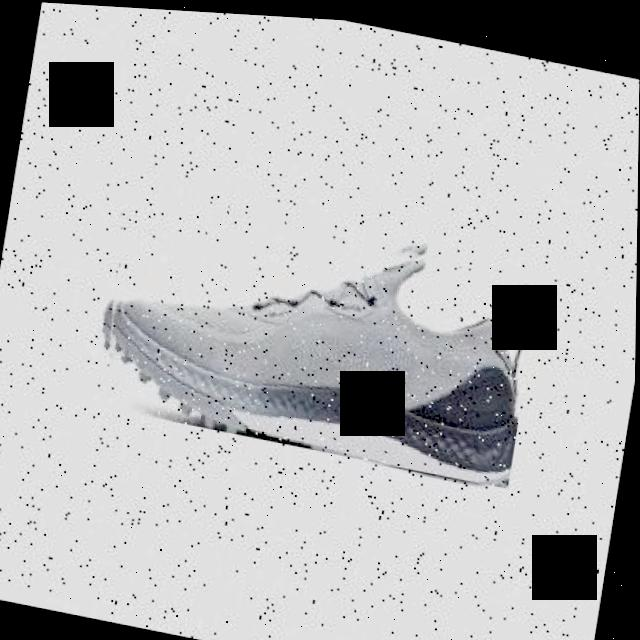shoe: (89, 176, 545, 484)
